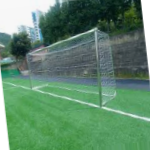goals: (24, 24, 117, 109)
